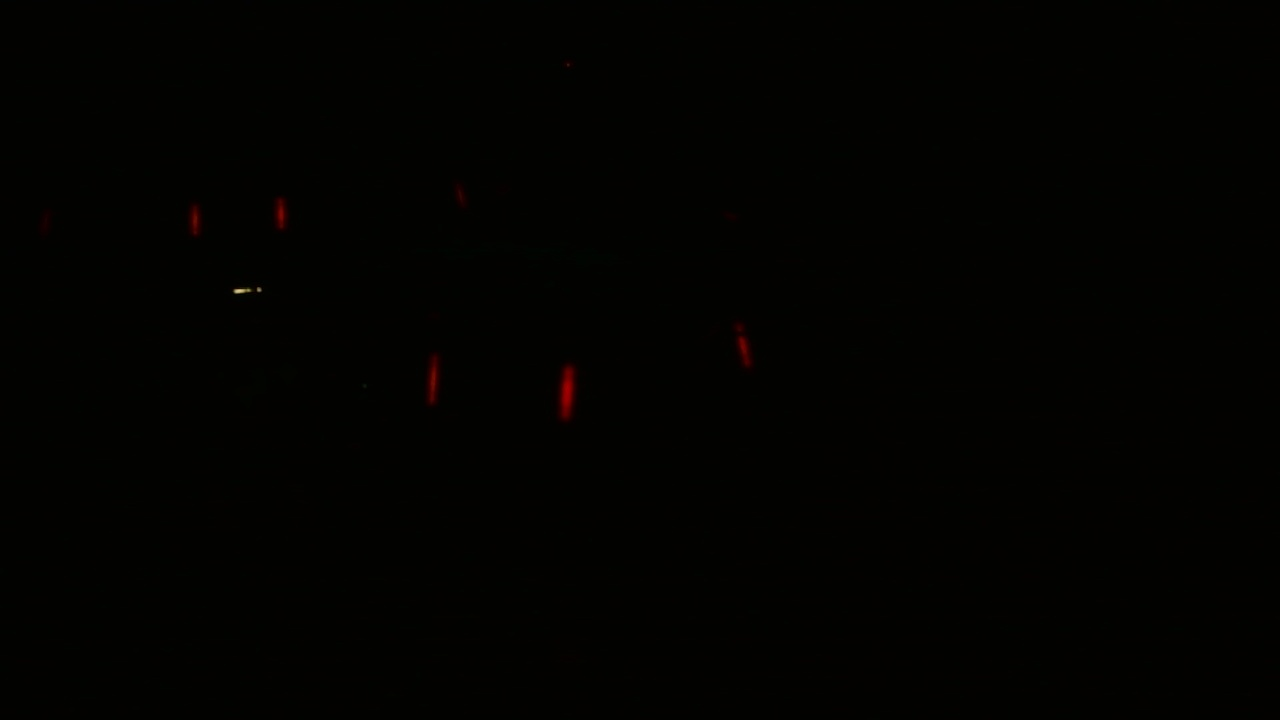pair1: (179, 190, 295, 246)
pair2: (417, 346, 586, 430)
